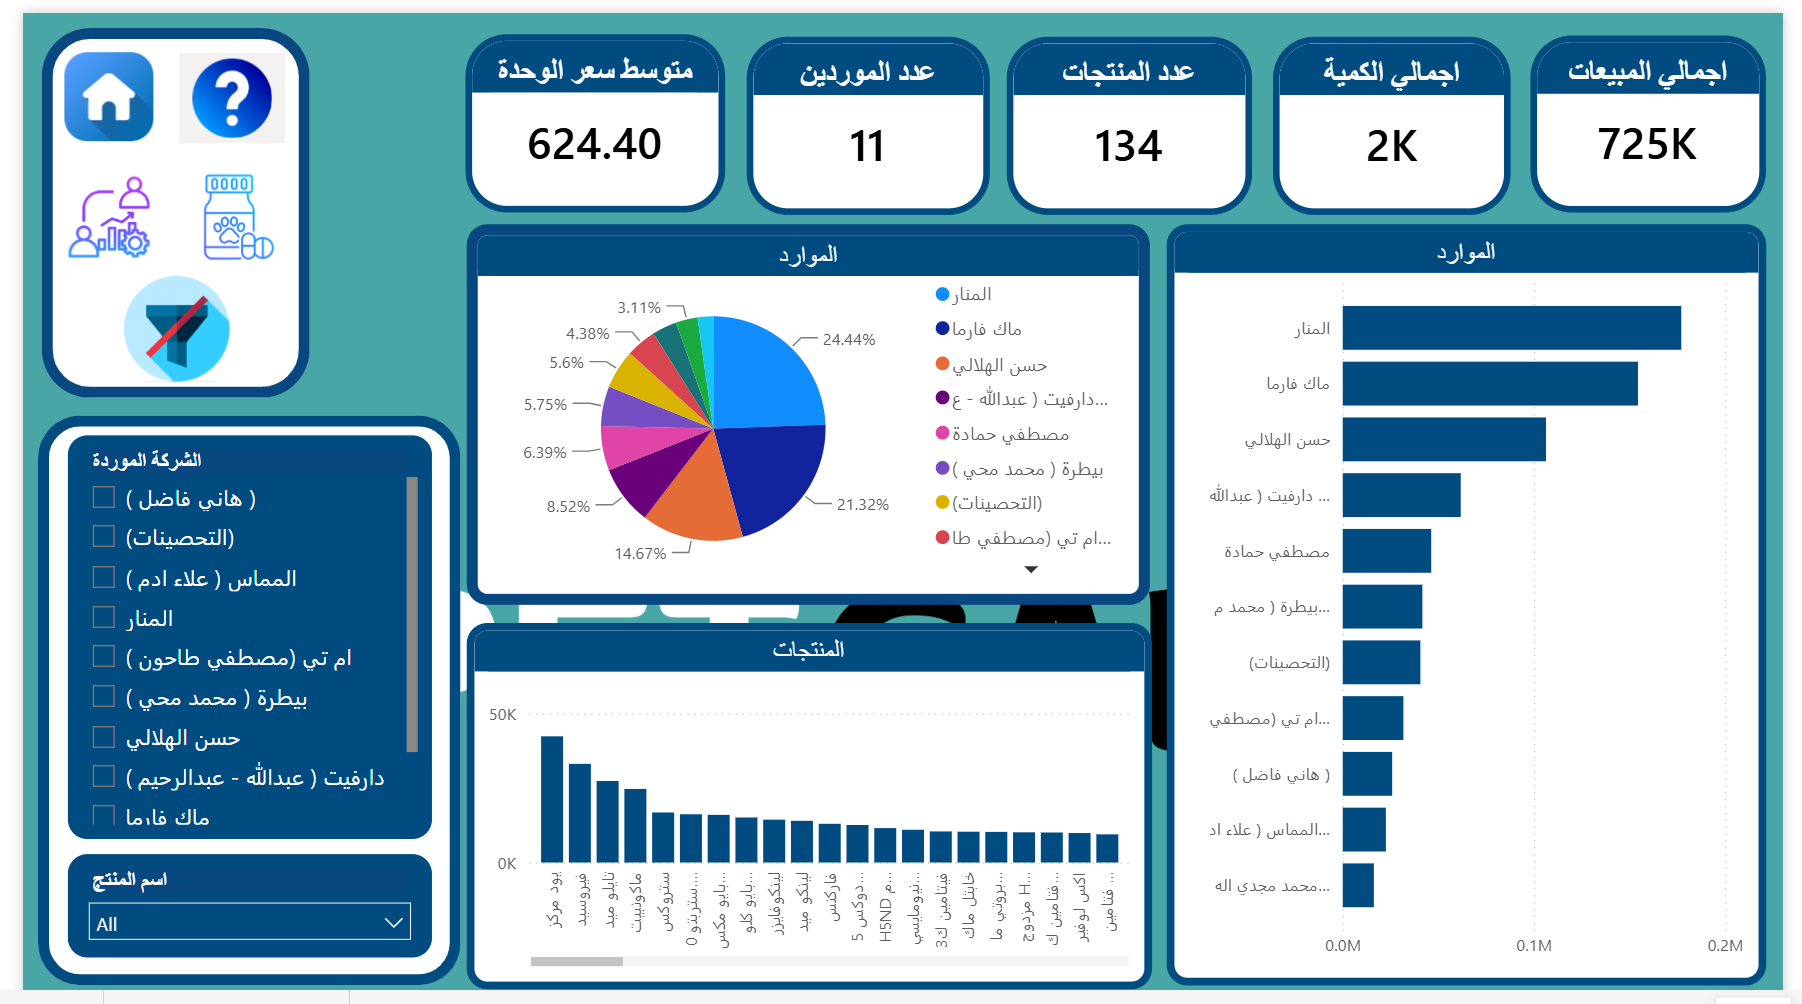

Layout of this report page (visuals, bound fields, positions):
{"tool":"powerbi","page":{"name":"Overview","canvas":[1280,720],"ordinal":1},"visuals":[{"type":"cardVisual","title":"اجمالي المبيعات","fields":{"Data":["المخزون.اجمالي المبيعات"]},"box":[1096.5,16.3,170.9,129.1],"z":0},{"type":"cardVisual","title":"اجمالي الكمية","fields":{"Data":["المخزون.اجمالي الكمية"]},"box":[909.1,17.3,173.2,129.9],"z":1000},{"type":"cardVisual","title":"عدد المنتجات","fields":{"Data":["المخزون.عدد المنتجات"]},"box":[715.2,17.3,178.4,129.9],"z":2000},{"type":"cardVisual","title":"عدد الموردين","fields":{"Data":["المخزون.عدد الموردين"]},"box":[526.4,17.3,176.6,129.9],"z":3000},{"type":"cardVisual","title":"متوسط سعر الوحدة","fields":{"Data":["المخزون.متوسط سعر الوحدة"]},"box":[322.1,15.6,188.7,129.9],"z":4000},{"type":"barChart","title":"الموارد","fields":{"Category":["المخزون.الشركة الموردة "],"Y":["Sum(المخزون.اجملي السعر)"]},"box":[831.4,153.5,436,553.5],"z":5000},{"type":"columnChart","title":"المنتجات ","fields":{"Category":["المخزون.اسم المنتج"],"Y":["Sum(المخزون.اجمالي السعر)"]},"box":[322.5,443.2,498.1,266.2],"z":6000},{"type":"pieChart","title":"الموارد","fields":{"Category":["المخزون.الشركة الموردة "],"Y":["Sum(المخزون.اجمالي السعر)"]},"box":[322.5,153.7,496.7,277.2],"z":7000},{"type":"shape","box":[13.7,10.9,194.9,269],"z":8000},{"type":"actionButton","title":"Home Button","box":[24.6,24.6,75.5,72.7],"z":9000},{"type":"actionButton","box":[113.8,28.8,76.8,65.9],"z":10000},{"type":"actionButton","title":"Filter Button","box":[69.3,207.8,90,64.1],"z":11000},{"type":"actionButton","title":"Filter Button","box":[58.9,187,105.6,84.8],"z":12000},{"type":"actionButton","title":"Home Button","box":[24.6,112.5,75.5,71.4],"z":13000},{"type":"actionButton","title":"Home Button","box":[118,112.5,78.2,71.4],"z":14000},{"type":"shape","box":[11,292.3,307.4,414.4],"z":15000},{"type":"slicer","fields":{"Values":["المخزون.الشركة الموردة "]},"box":[31.6,306,266.2,295],"z":16000},{"type":"slicer","fields":{"Values":["المخزون.اسم المنتج"]},"box":[31.6,610.6,266.2,76.8],"z":17000}]}

Visuals, with their boxes in screenshot pixels (x1, y1, x2, y2), scaled from the page's 1280x720 canvas onto the 1802x1004 screenshot:
"اجمالي المبيعات" cardVisual: BBox(1544, 23, 1784, 203)
"اجمالي الكمية" cardVisual: BBox(1280, 24, 1524, 205)
"عدد المنتجات" cardVisual: BBox(1007, 24, 1258, 205)
"عدد الموردين" cardVisual: BBox(741, 24, 990, 205)
"متوسط سعر الوحدة" cardVisual: BBox(453, 22, 719, 203)
"الموارد" barChart: BBox(1170, 214, 1784, 986)
"المنتجات " columnChart: BBox(454, 618, 1155, 989)
"الموارد" pieChart: BBox(454, 214, 1153, 601)
shape: BBox(19, 15, 294, 390)
"Home Button" actionButton: BBox(35, 34, 141, 136)
actionButton: BBox(160, 40, 268, 132)
"Filter Button" actionButton: BBox(98, 290, 224, 379)
"Filter Button" actionButton: BBox(83, 261, 232, 379)
"Home Button" actionButton: BBox(35, 157, 141, 256)
"Home Button" actionButton: BBox(166, 157, 276, 256)
shape: BBox(15, 408, 448, 985)
slicer - المخزون.الشركة الموردة : BBox(44, 427, 419, 838)
slicer - المخزون.اسم المنتج: BBox(44, 851, 419, 959)
